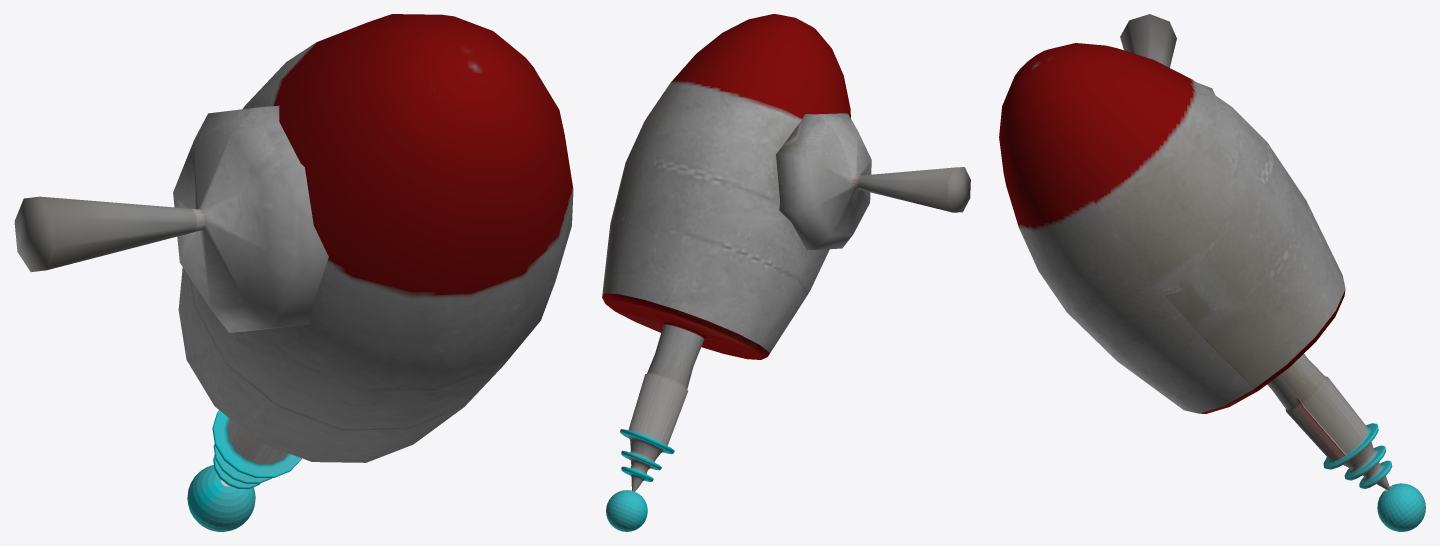
Rendered from SpacemenGun.fbx.
The picture shows the model from 3 angles, left to right: view 1: azimuth 30°, elevation 25°; view 2: azimuth 150°, elevation 25°; view 3: azimuth 270°, elevation 25°; orthographic projection. The views are drawn at different scales.
Visible parts, largest first — view 1: Cube.002; view 2: Cube.002; view 3: Cube.002.
Part boxes in pixels (left/top/right/bottom): Cube.002: left=14, top=14, right=573, bottom=531; Cube.002: left=602, top=14, right=970, bottom=531; Cube.002: left=999, top=14, right=1425, bottom=531.
Size of the model in its own units: 2.6 by 3.16 by 2.58.
